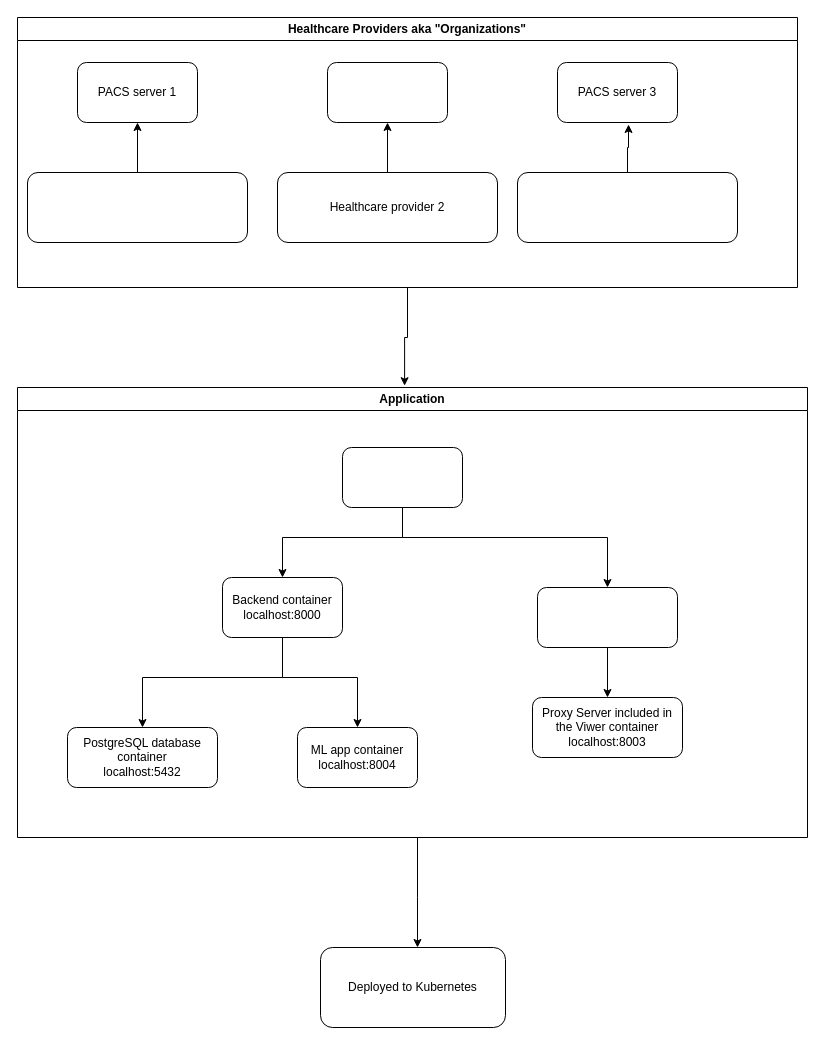
The diagram is 825 pixels wide and 1045 high, and some of its shapes have lost their labels. Each missing label, with the box of its shape:
Frontend container localhost:8001: (342, 446, 462, 508)
Healthcare provider 1: (26, 172, 248, 242)
Healthcare provider 3: (516, 172, 738, 242)
OHIF Viewer container localhost:8002: (536, 586, 678, 648)
PACS server 2: (326, 62, 448, 122)
